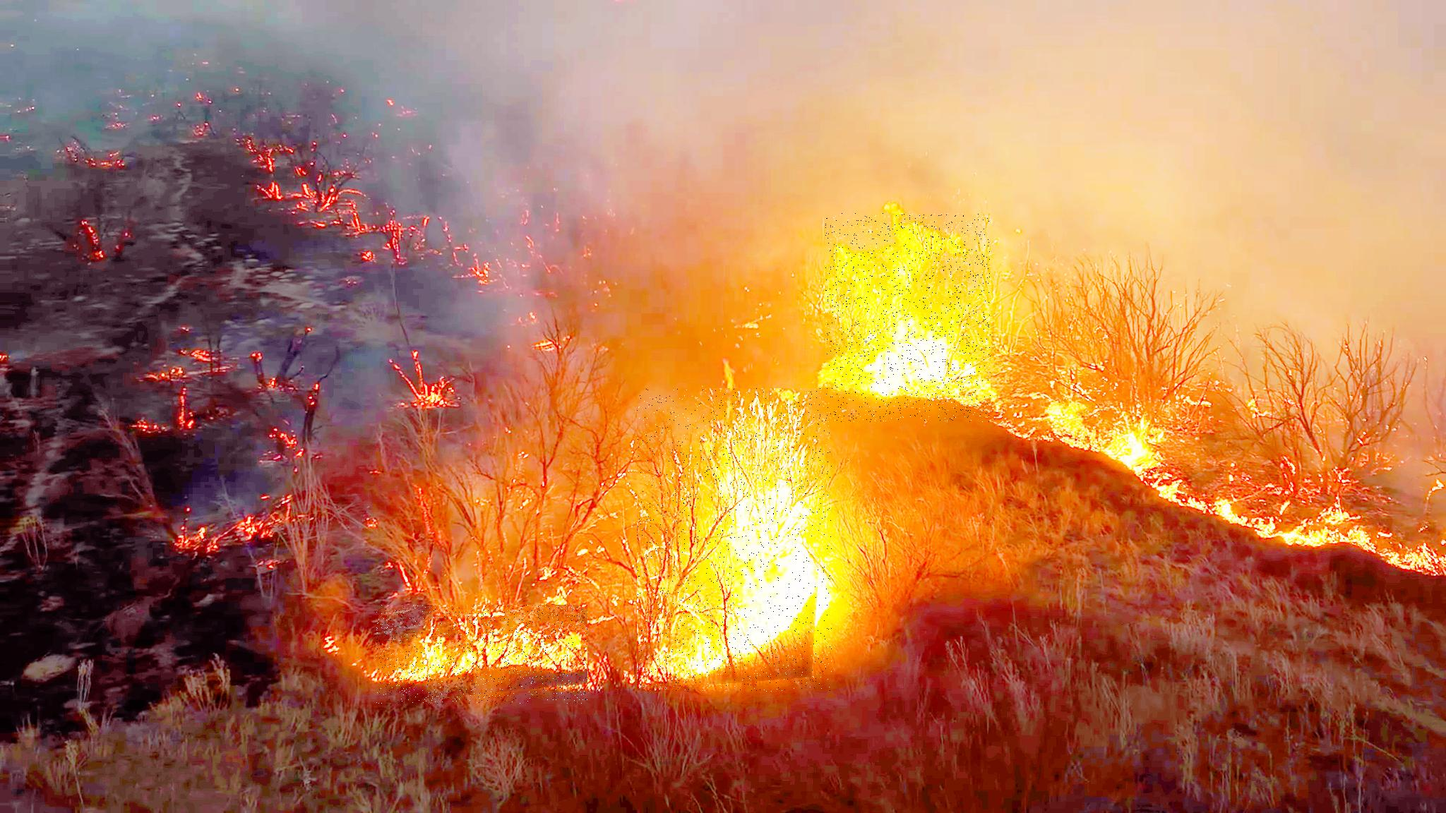fire: (637, 388, 832, 692), (825, 213, 991, 422), (376, 605, 587, 704)
